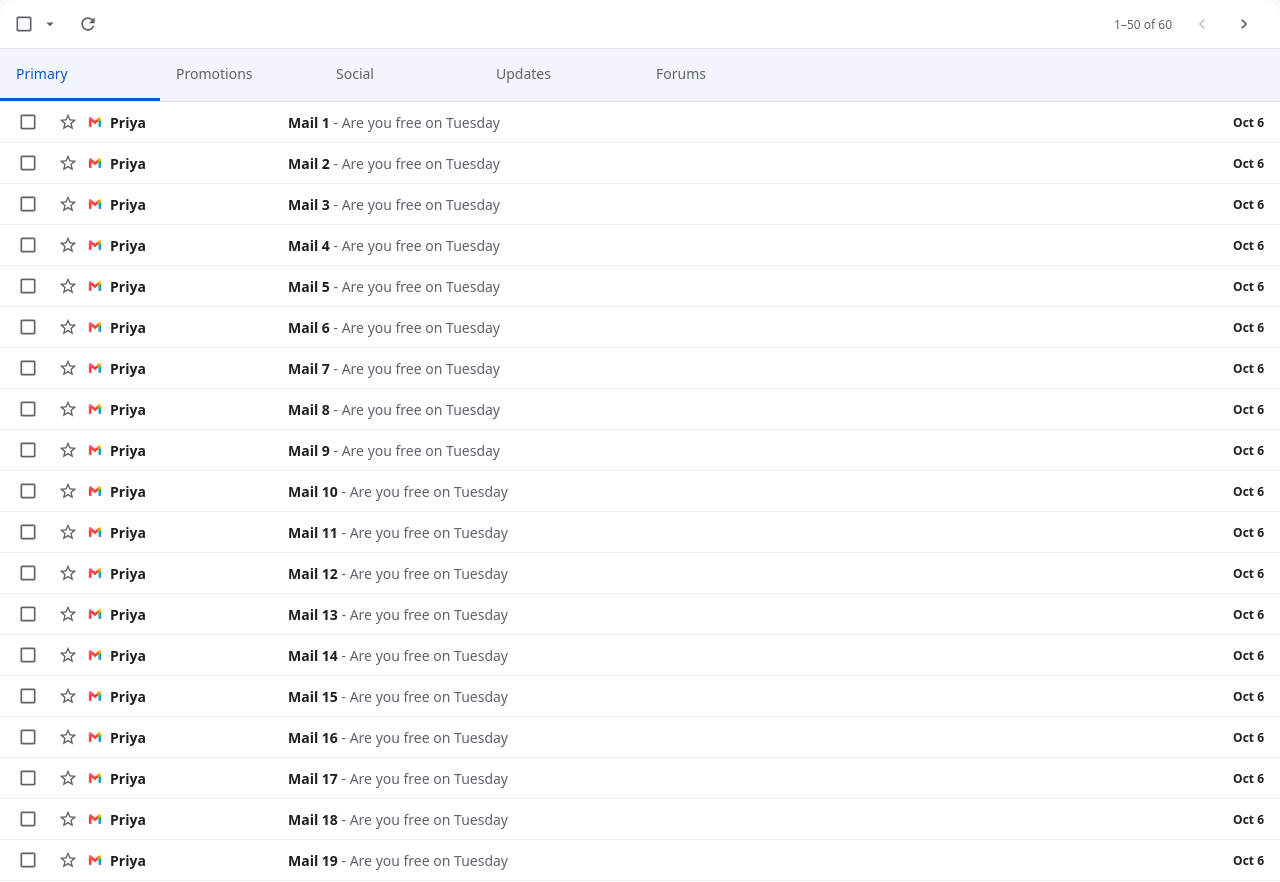
Test: UnifiedMailbox › tags each conversation with its account and pages through fetched mail
The image size is (1280, 882).
Check: the 1st picture named "Gmail" is shown, box [88,115,102,129]
Check: the text "1–50 of 60" is shown, box [1114,16,1172,32]
What coordinates should you click on to do the following:
click the button named "Older"
I would click on:
 (1244, 24)
Its box is [1224,4,1264,44].
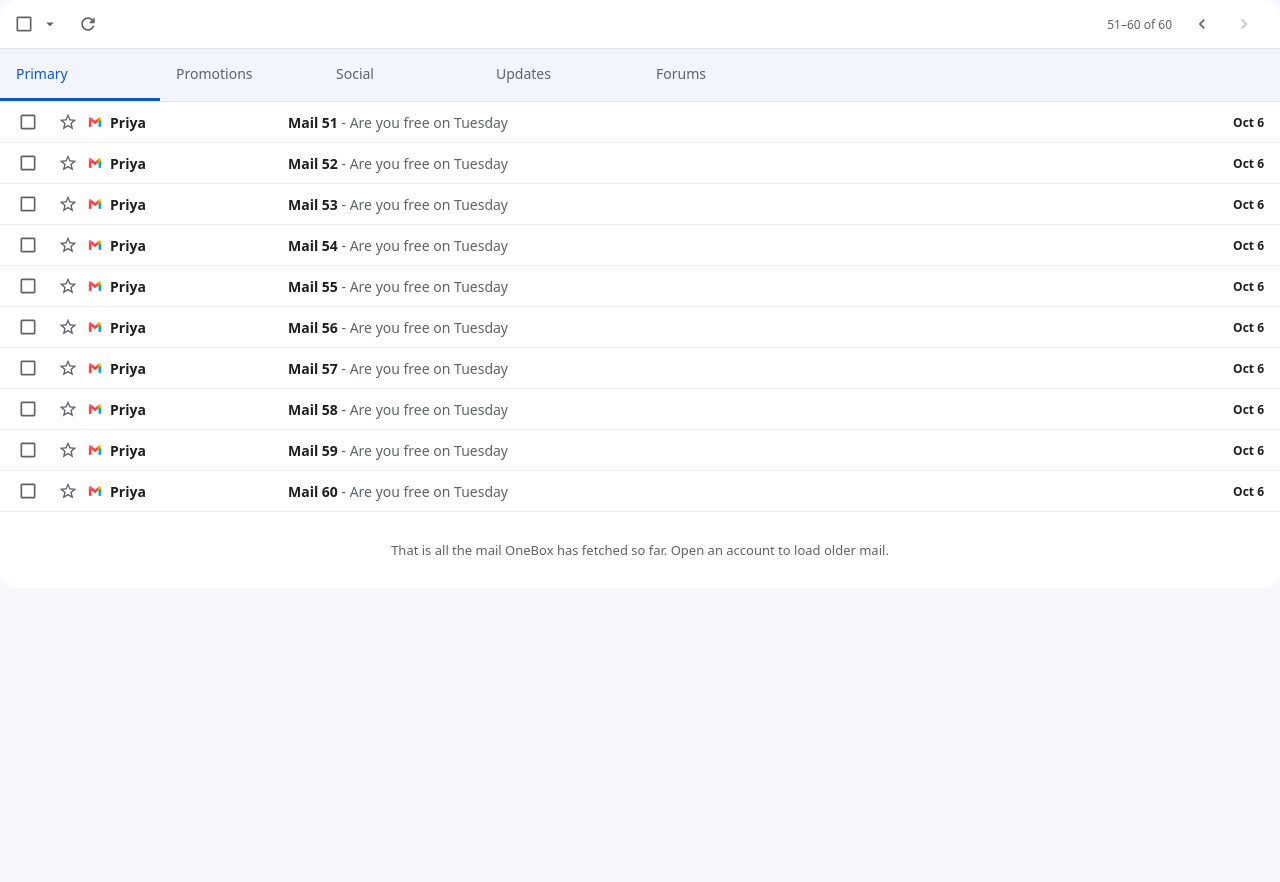
Check: the text "51–60 of 60" is shown, box [1107,16,1172,32]
Check: the text "Open an account to load older mail" is shown, box [391,541,889,559]
